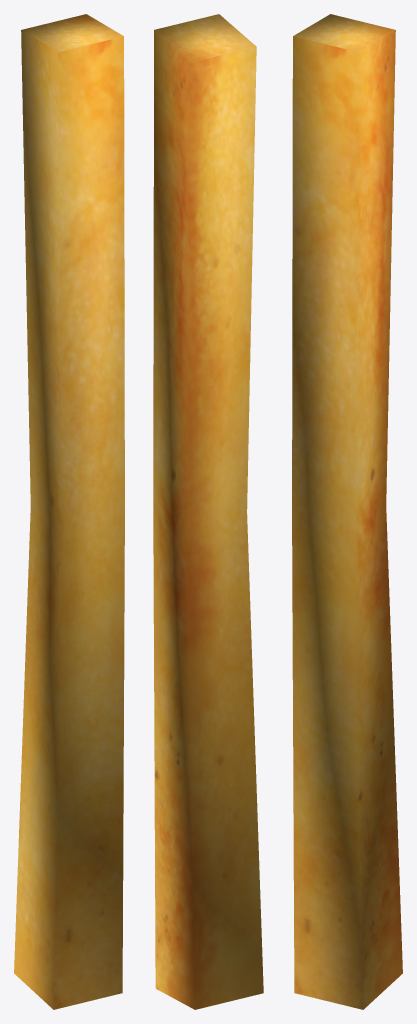
The model's file is FFHP_MOD_French_fry.fbx.
3 views of the same model, side by side, from view 1: azimuth 30°, elevation 25°; view 2: azimuth 210°, elevation 25°; view 3: azimuth 330°, elevation 25° (orthographic).
Parts seen in each view (by area): view 1: FFHP_MOD_Frie; view 2: FFHP_MOD_Frie; view 3: FFHP_MOD_Frie.
Boxes of the visible parts, left/top/right/bottom form: FFHP_MOD_Frie: left=14, top=14, right=124, bottom=1009; FFHP_MOD_Frie: left=153, top=14, right=263, bottom=1009; FFHP_MOD_Frie: left=292, top=14, right=402, bottom=1009.
Size of the model in its own units: 0.0437 by 0.5811 by 0.0511.
